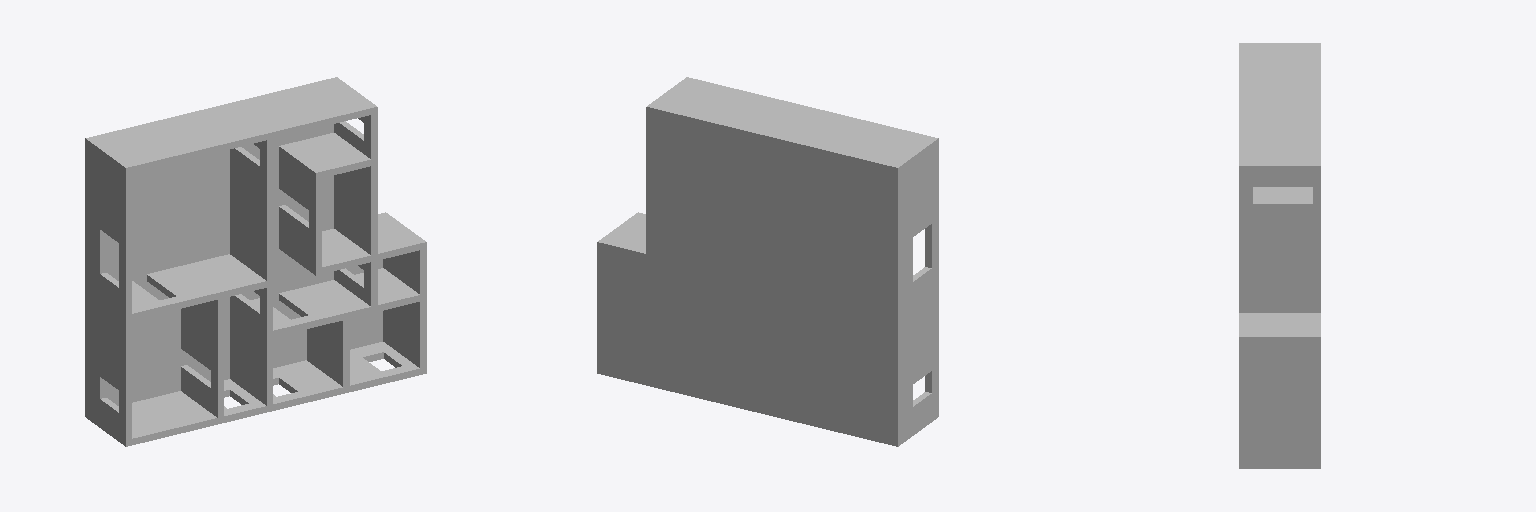
File: appartamento.obj
3 renders of one model, left to right at view 1: azimuth 30°, elevation 25°; view 2: azimuth 150°, elevation 25°; view 3: azimuth 270°, elevation 25°, orthographic.
Size of the model in its own units: 14.1 by 12.5 by 3.3.